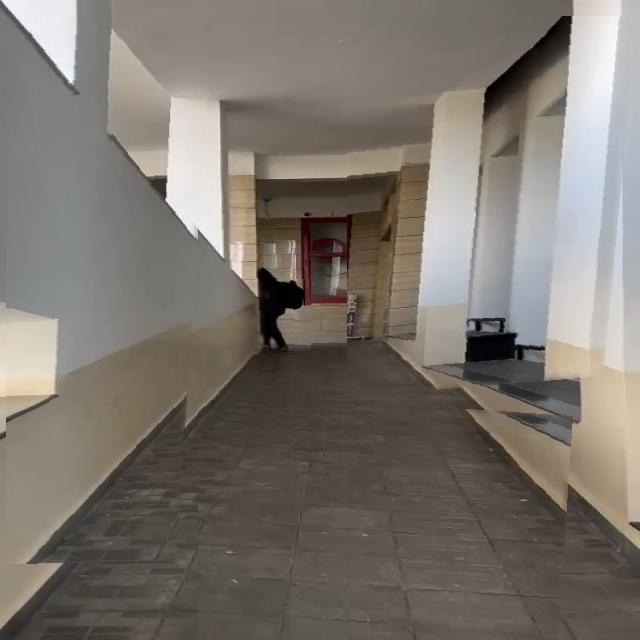floor: (198, 391, 573, 640)
moving_object: (251, 260, 311, 355)
wall: (347, 16, 640, 400), (6, 29, 212, 565)
